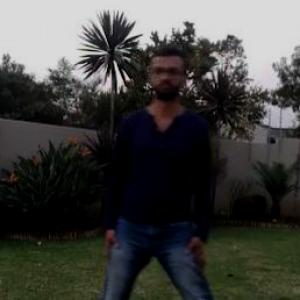follow: (102, 28, 221, 299)
